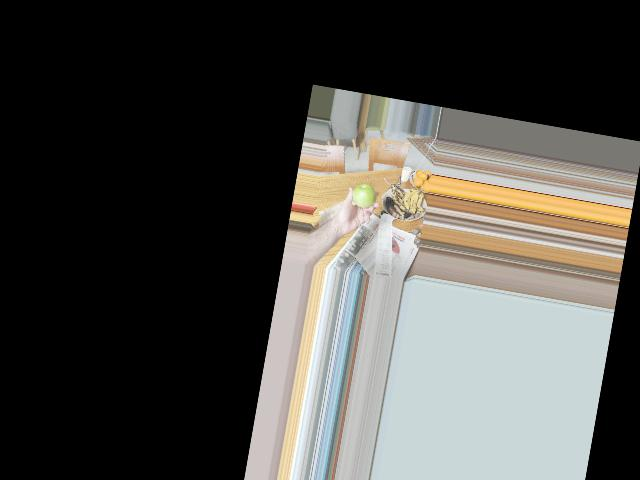apple: (351, 182, 376, 210)
